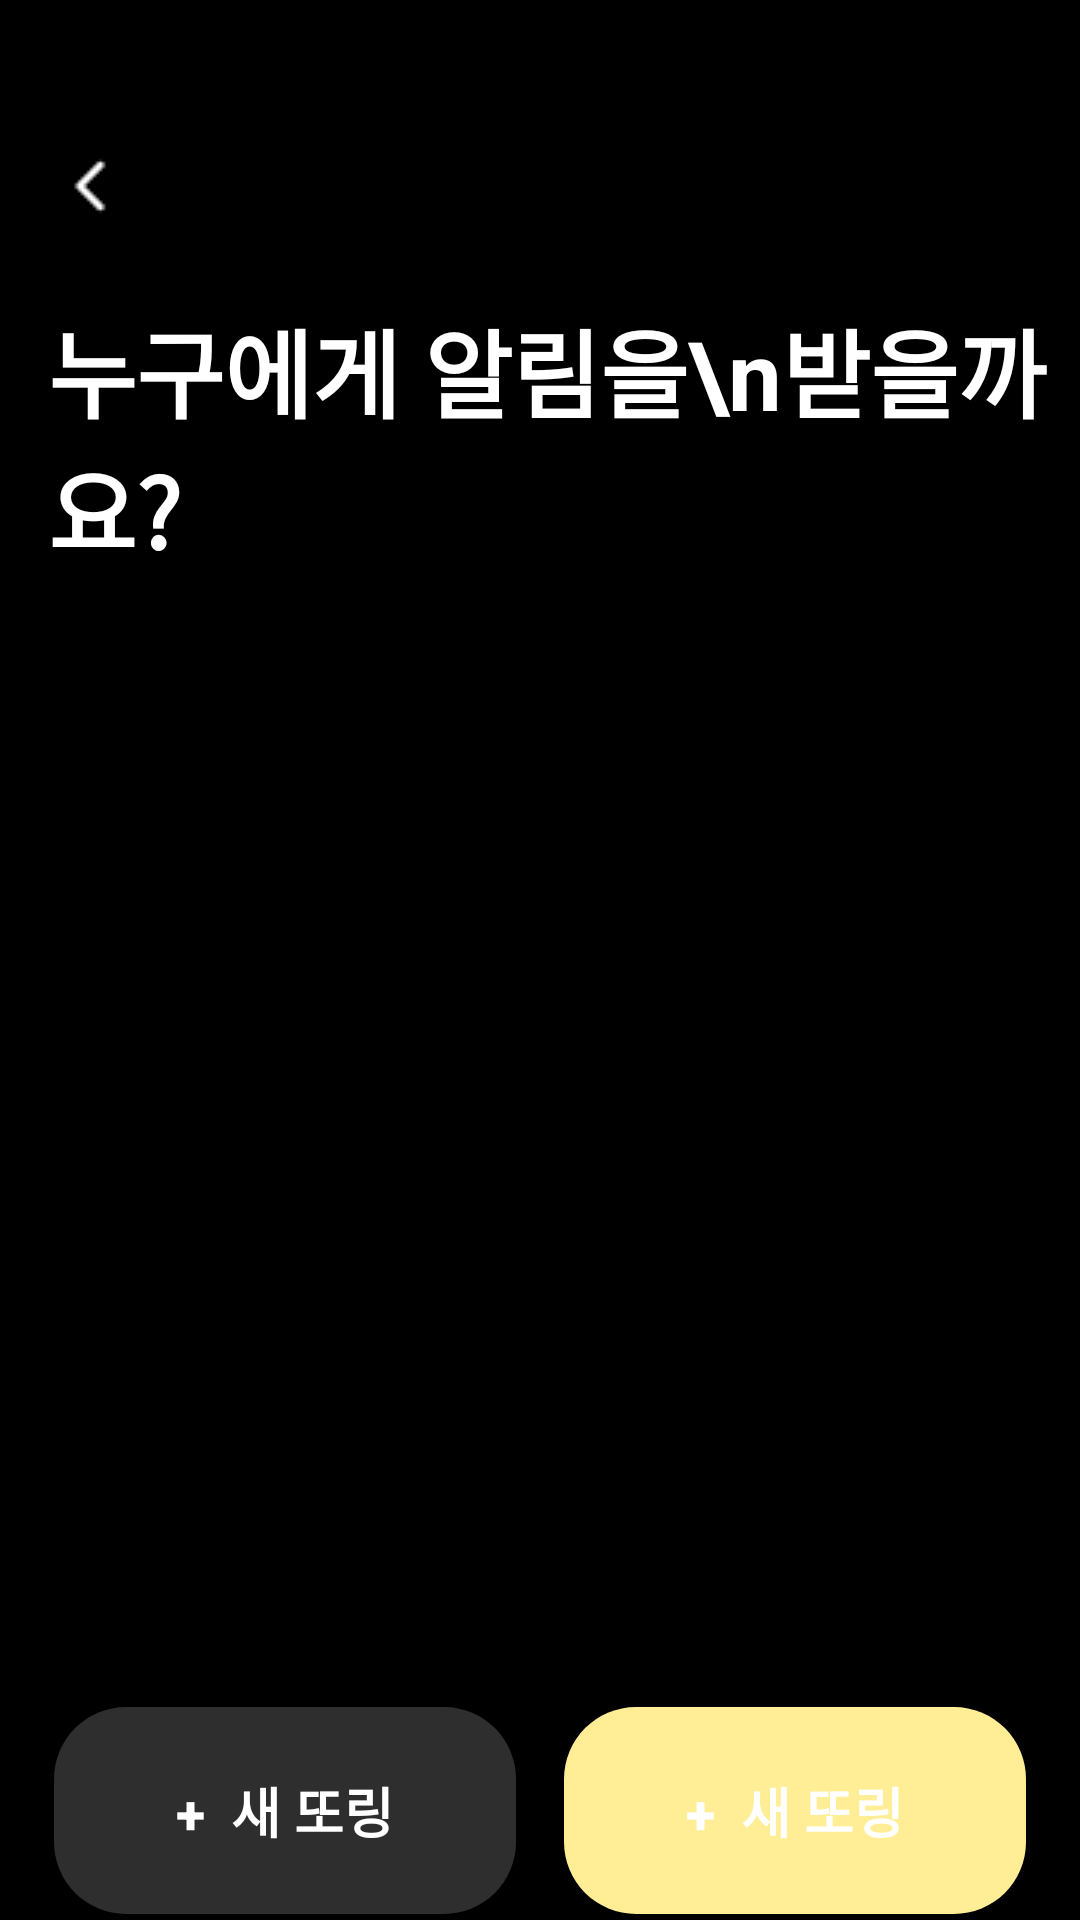

Point at icon controls on the screen. Image size 1080x1920, points as [x,y].
backbtn: [90,186]
